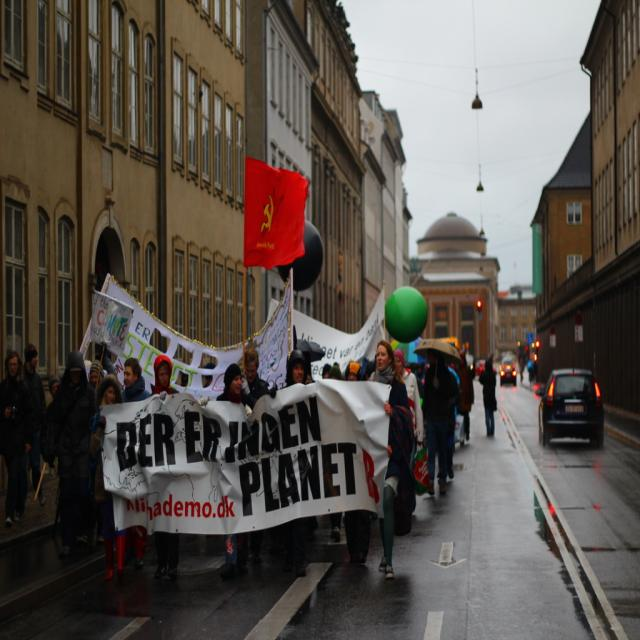car: (534, 362, 601, 443)
